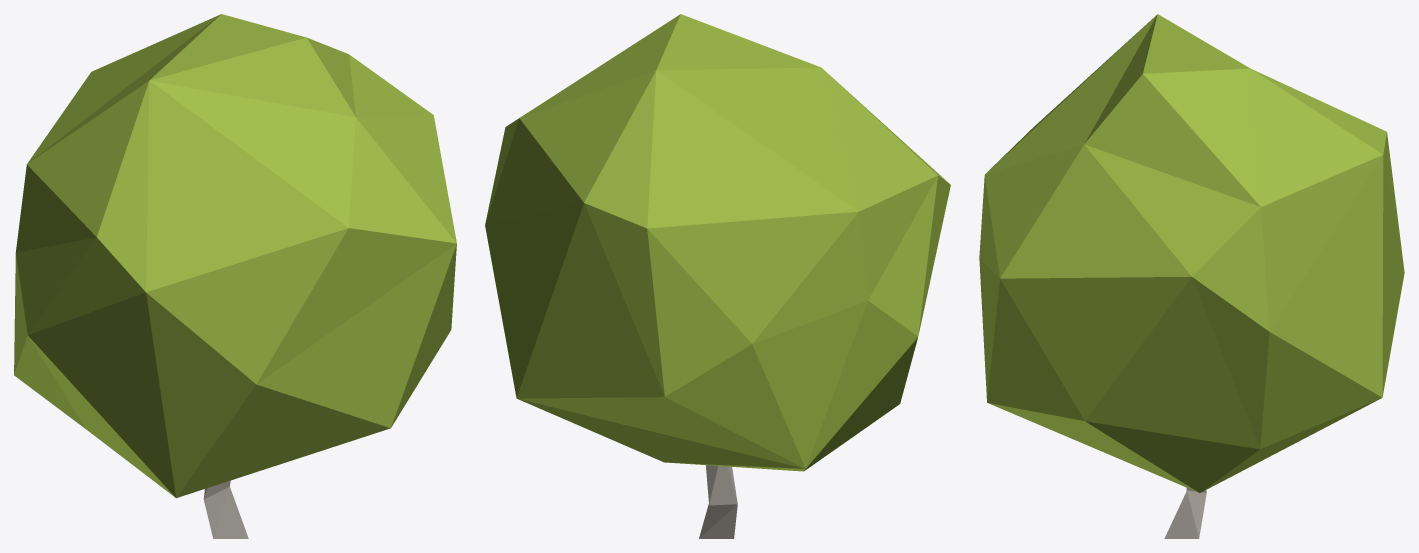
Rendered from UlmusMinor.glb.
The picture shows the model from 3 angles, left to right: view 1: azimuth 30°, elevation 25°; view 2: azimuth 150°, elevation 25°; view 3: azimuth 270°, elevation 25°; orthographic projection. The views are drawn at different scales.
Visible parts, largest first — view 1: Crown, Trunk; view 2: Crown, Trunk; view 3: Crown, Trunk.
Boxes of the visible parts, box(x1,y1,x2,y2) form: Crown: box(14, 14, 456, 498); Trunk: box(203, 480, 248, 538); Crown: box(485, 14, 950, 471); Trunk: box(699, 465, 737, 538); Crown: box(979, 14, 1404, 492); Trunk: box(1164, 487, 1206, 538).
Bounding box in the file's own units: 20.8 × 24.05 × 19.01.
